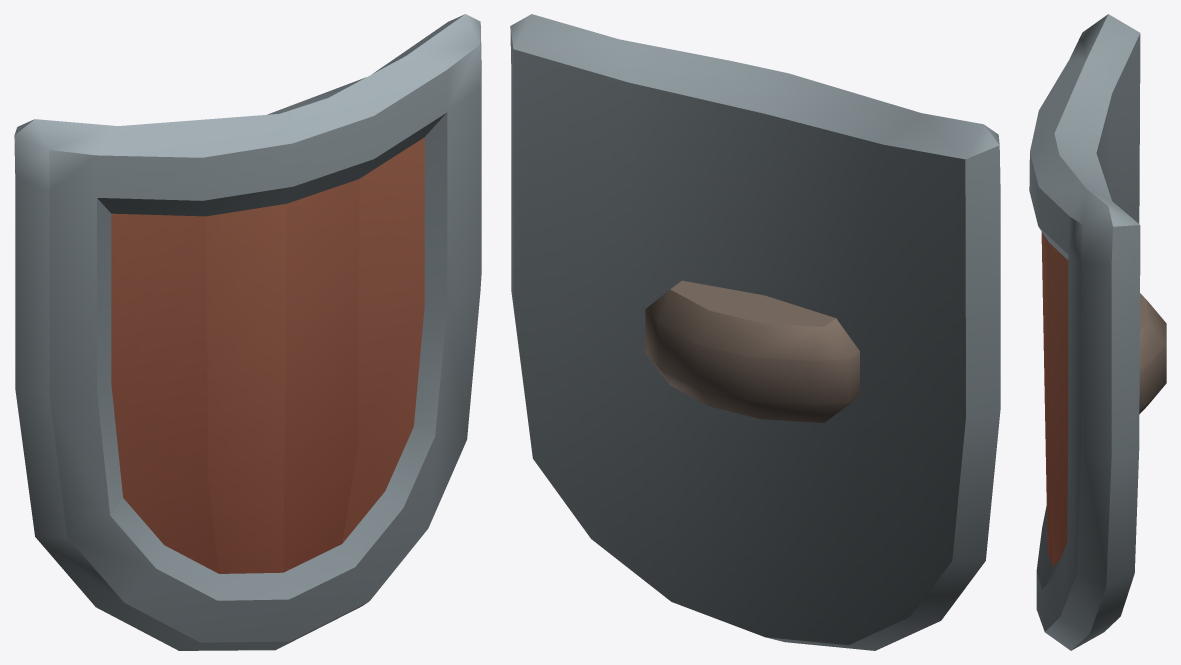
Rendered from shield_badge.glb.
The picture shows the model from 3 angles, left to right: view 1: azimuth 30°, elevation 25°; view 2: azimuth 150°, elevation 25°; view 3: azimuth 270°, elevation 25°; orthographic projection. The views are drawn at different scales.
Bounding box in the file's own units: 0.8826 × 1.02 × 0.2459.
Materials: 1 (1 with a texture image).
